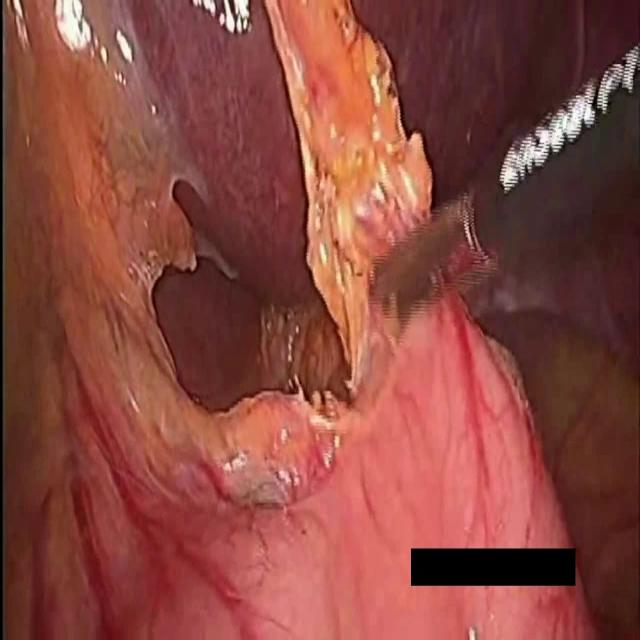surgical-area: (0, 0, 640, 639)
surgical-tool: (368, 40, 640, 328)
